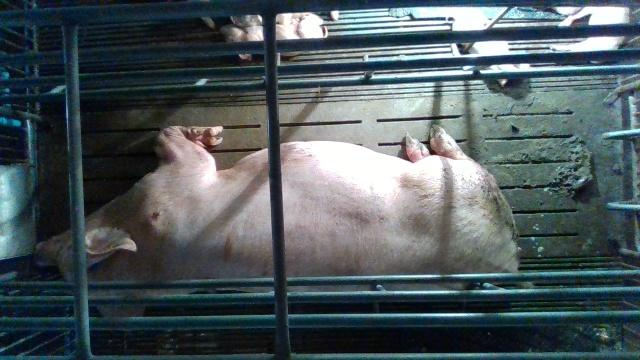piglet: (218, 12, 329, 61), (551, 6, 629, 53)
sow-sleep: (34, 125, 520, 318)
